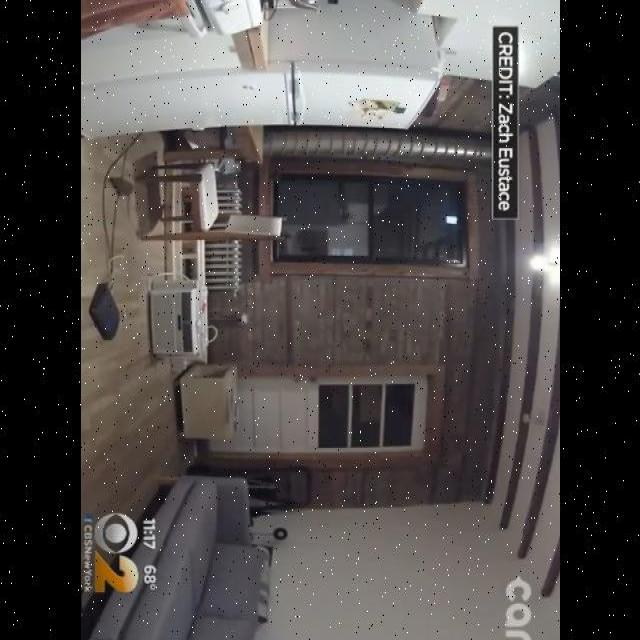rat: (104, 172, 136, 203)
